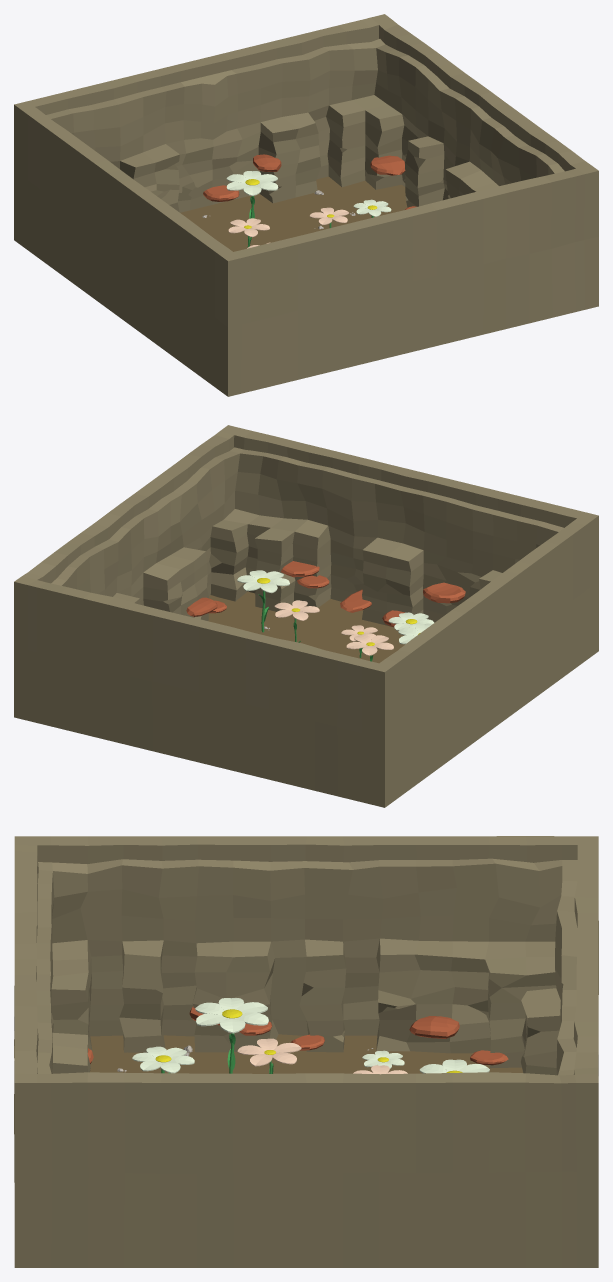
File: boss_1.fbx
3 views of the same model, one above another, from view 1: azimuth 30°, elevation 25°; view 2: azimuth 150°, elevation 25°; view 3: azimuth 270°, elevation 25° (orthographic). The views are drawn at different scales.
Visible parts, largest first — view 1: wall, background, flow1, Vert.003; view 2: wall, background, flow1.002, Vert.011, flow2.005, flow2.003; view 3: wall, background, flow1.004, flow2.005, flow1.003, Vert.002, flow1.
Part boxes in pixels (x1,y1,x2,y2): wall: (14, 14, 598, 396); background: (180, 176, 407, 251); flow1: (226, 171, 278, 196); Vert.003: (370, 155, 405, 175); wall: (14, 425, 598, 807); background: (208, 591, 404, 663); flow1.002: (237, 570, 289, 593); Vert.011: (423, 582, 465, 603); flow2.005: (346, 635, 393, 655); flow2.003: (274, 600, 319, 620); wall: (14, 836, 598, 1267); background: (90, 1034, 522, 1073); flow1.004: (195, 998, 268, 1033); flow2.005: (237, 1038, 301, 1066); flow1.003: (132, 1046, 194, 1073); Vert.002: (409, 1016, 459, 1038); flow1: (419, 1059, 489, 1073).
Bounding box in the file's own units: 2002 × 908 × 2004.
